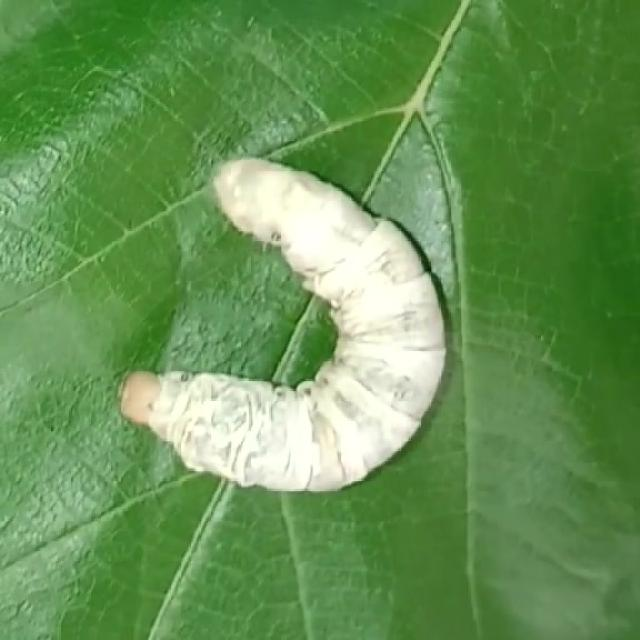Grasserie: (102, 107, 463, 534)
